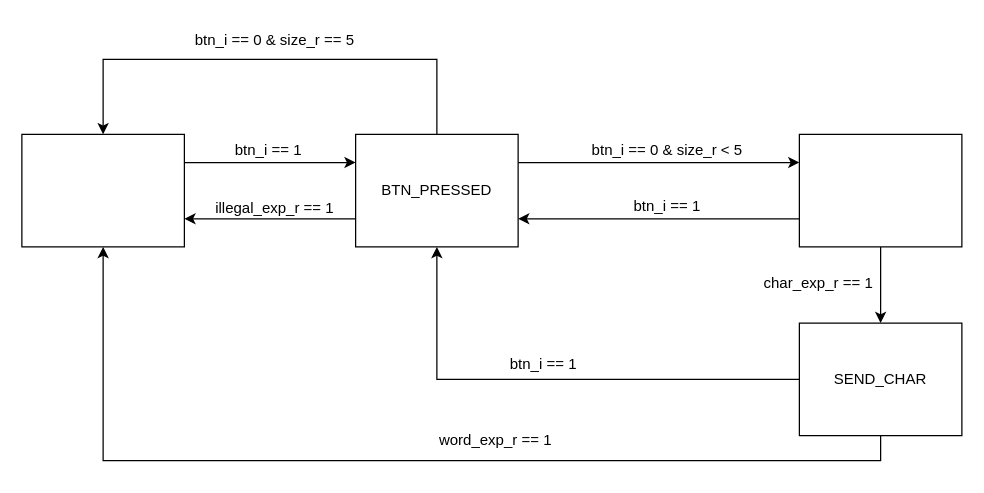
Some shapes in this 984 by 493 pixel diagram are drawn without their labels. The shapes that lost their labels are listed below. From the top down, each one's centre as x and y in pixels, then its label:
At pixel 102 190: "IDLE".
At pixel 880 190: "BTN_RELEASED".
